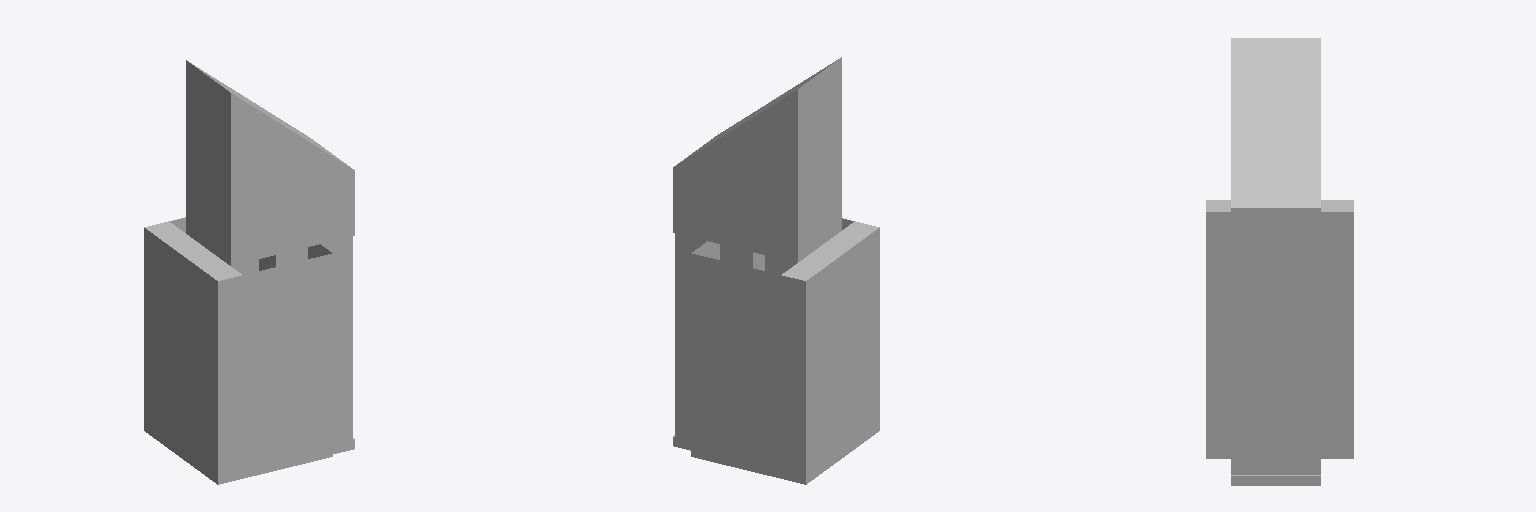
Rendered from skyscraper_slant.obj.
3 views of the same model, side by side, from view 1: azimuth 30°, elevation 25°; view 2: azimuth 150°, elevation 25°; view 3: azimuth 270°, elevation 25° (orthographic).
Visible parts, largest first — view 1: Cube.001; view 2: Cube.001; view 3: Cube.001.
Boxes of the visible parts, <box> form: Cube.001: <box>144,60,354,484</box>; Cube.001: <box>673,57,879,484</box>; Cube.001: <box>1206,38,1353,485</box>.
Size of the model in its own units: 3.86 by 9.53 by 3.29.